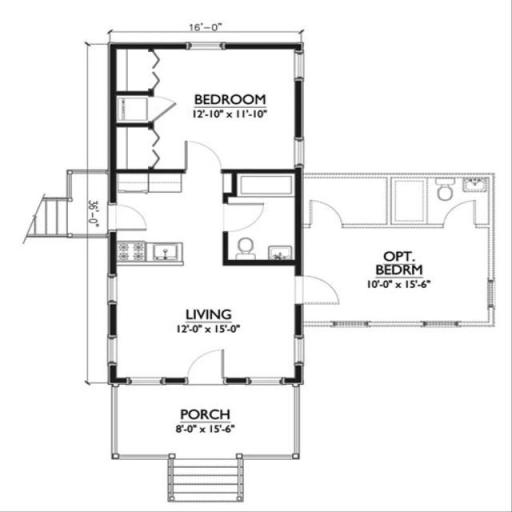bedroom: (308, 178, 480, 322), (116, 48, 287, 166)
hall: (112, 169, 290, 374)
porch: (117, 389, 298, 459)
